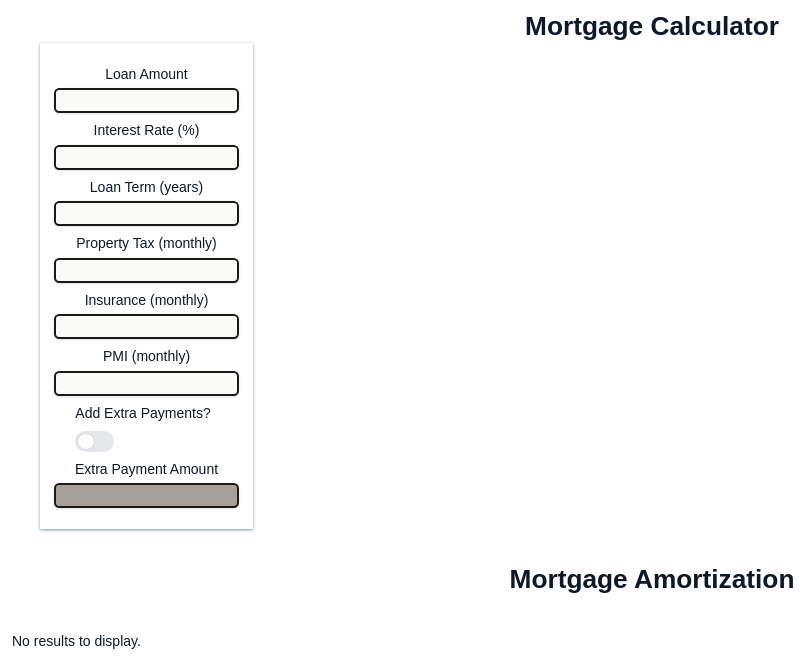
Test case: Mortgage Calculator page › user inputs › enables the extra payment option when checked
Click the checkbox with test id "mortgage-container-add-extra-payment-checkbox" at (143, 412), box [75, 402, 218, 452]
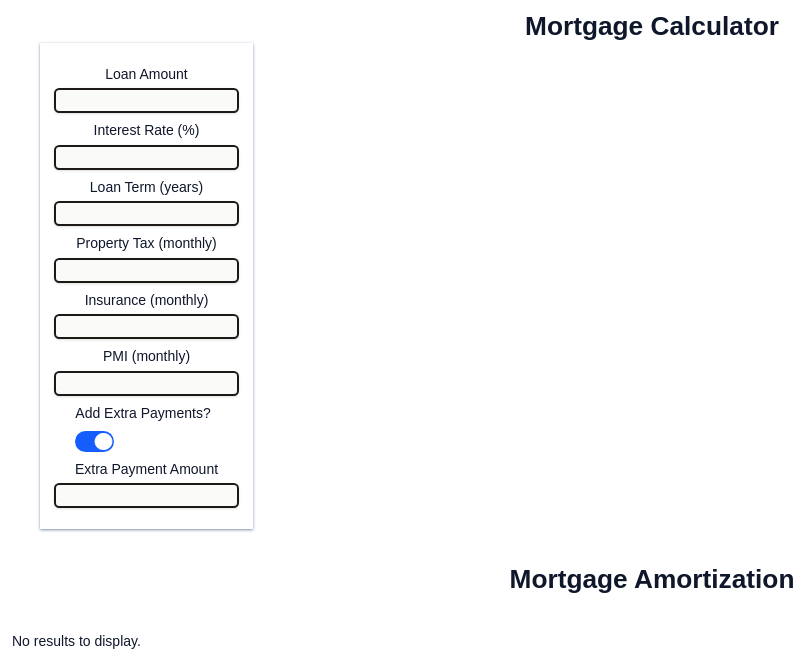
expect the number field with test id "mortgage-container-extra-payment-input" is enabled: met, box [54, 483, 239, 508]
